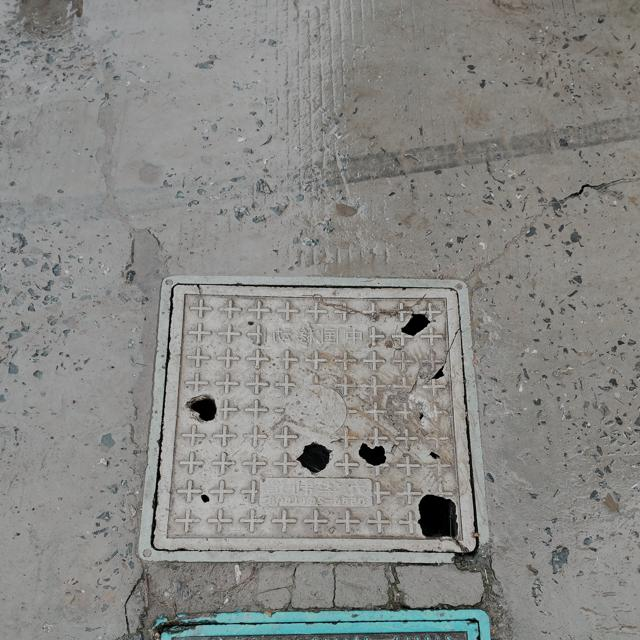broke: (138, 273, 483, 567)
